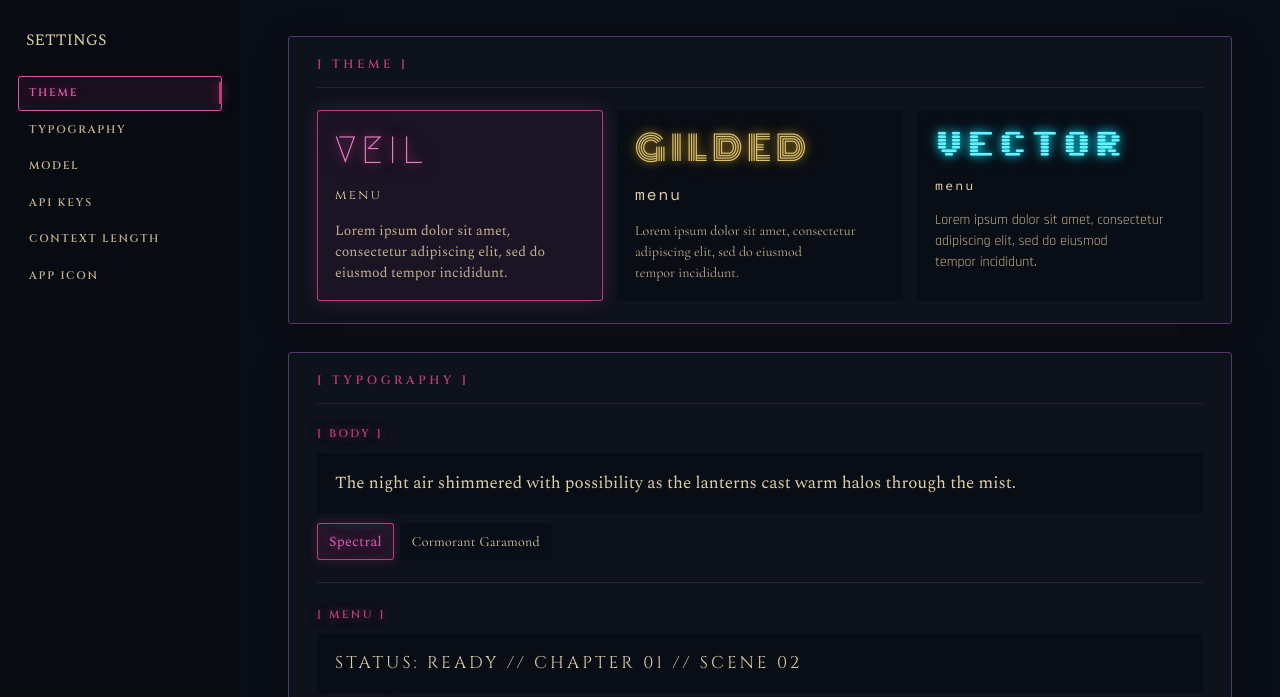
preference save failures (#961) › shows the rejection for an online HTTP failure and keeps the saved font
This screenshot has width=1280, height=697.
Click the button "Cormorant Garamond" at [476, 541], box x1=400 y1=522 x2=552 y2=560
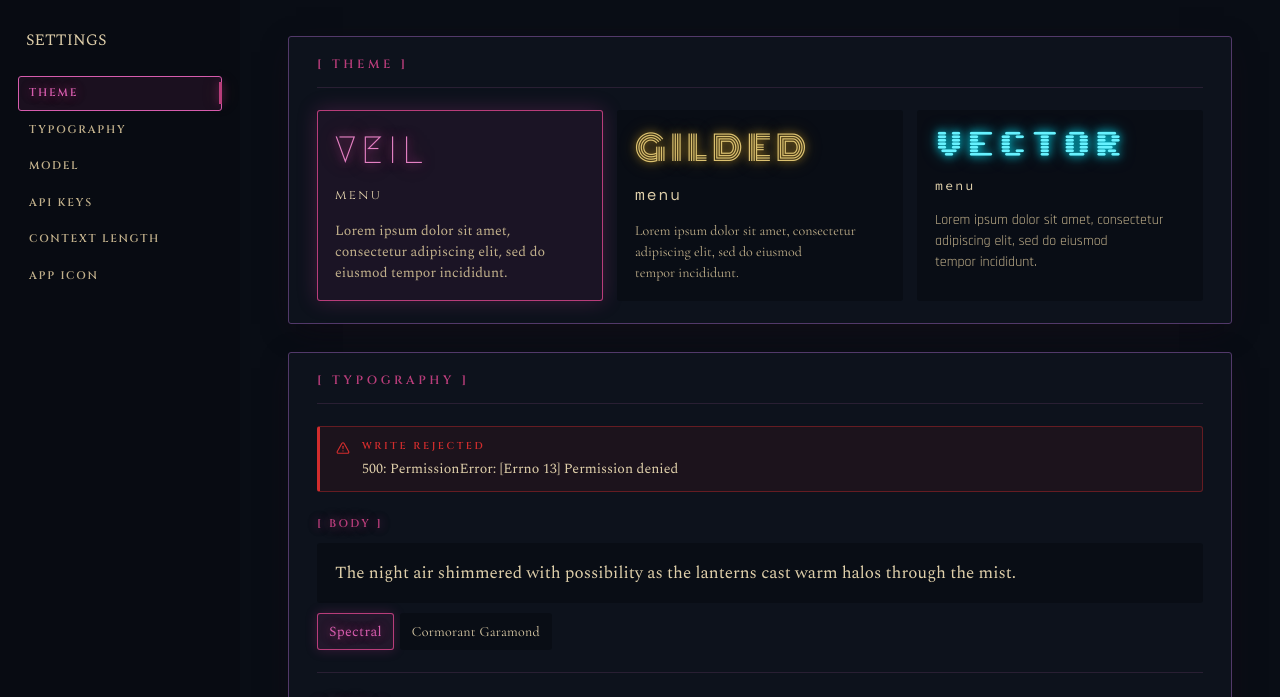
Expected: the message with test id "font-save-error" shows "WRITE REJECTED", x1=362 y1=439 x2=485 y2=453
Expected: the message with test id "font-save-error" shows "500: PermissionError: [Errno 13] Permission denied", x1=362 y1=458 x2=678 y2=479
Click the button "Cormorant Garamond" at [476, 631], box x1=400 y1=612 x2=552 y2=650
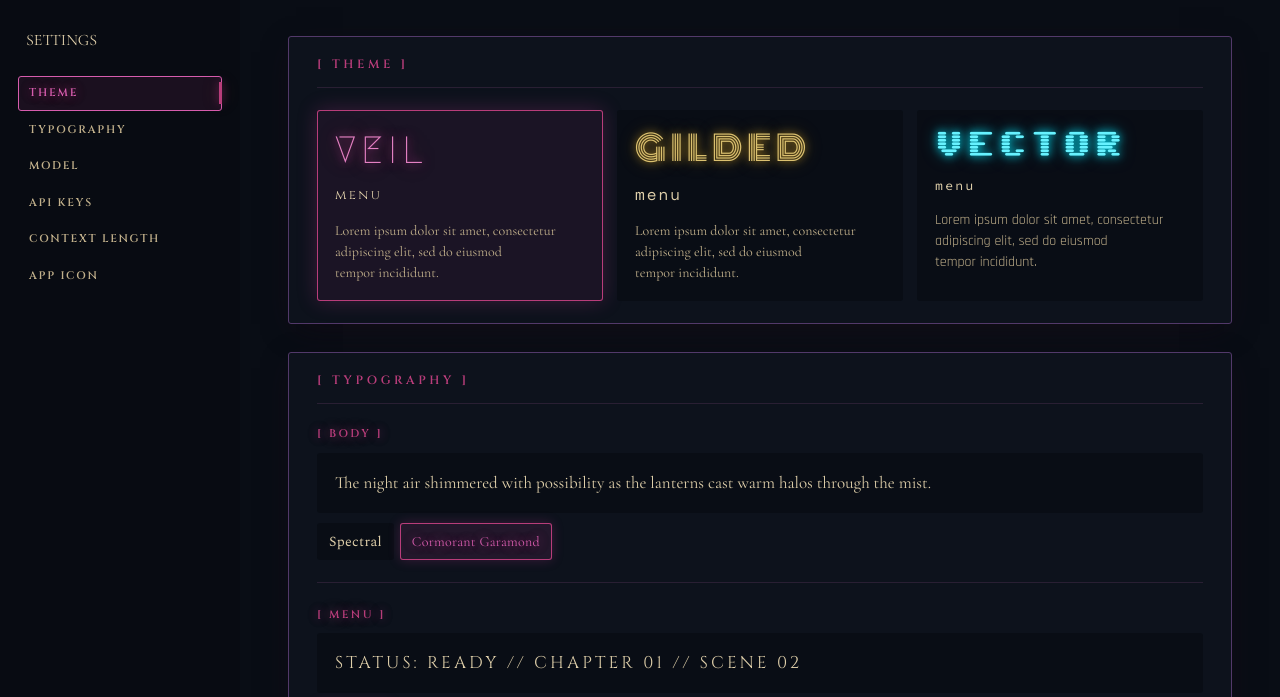
Expected: the message with test id "font-save-error" is gone
